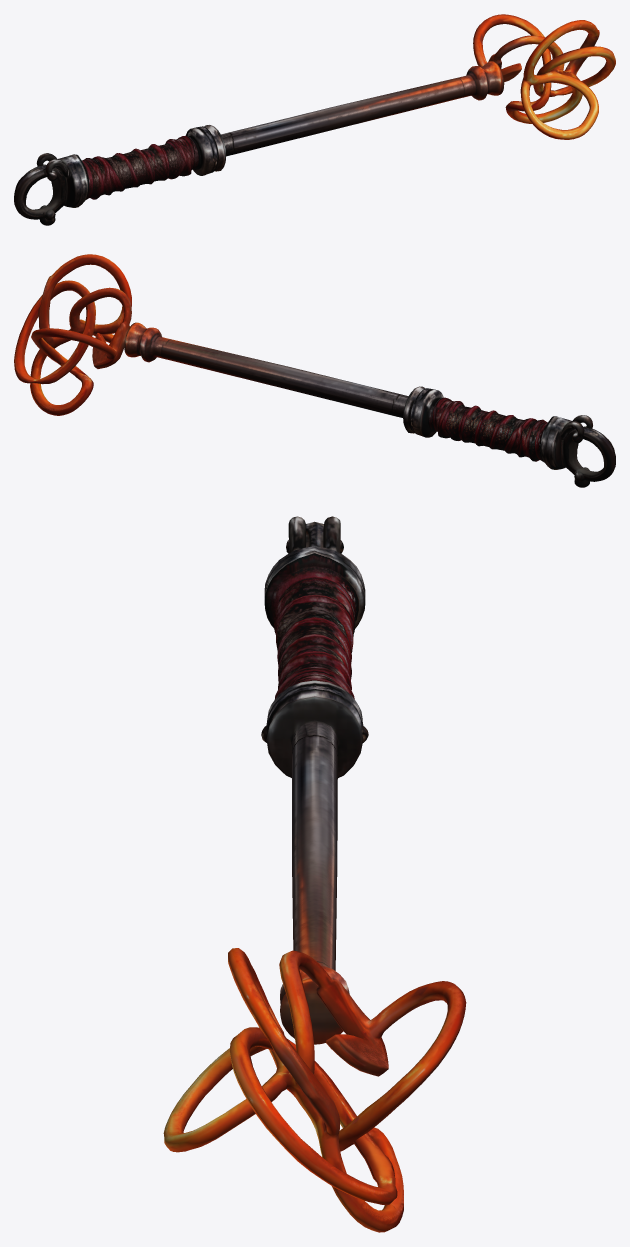
File: FL_branding_iron_vA.glb
3 views of the same model, one above another, from view 1: azimuth 30°, elevation 25°; view 2: azimuth 150°, elevation 25°; view 3: azimuth 270°, elevation 25° (orthographic). The views are drawn at different scales.
Visible parts, largest first — view 1: c60b1110_420c_48ce_8e7e_0bb340e11f68; view 2: c60b1110_420c_48ce_8e7e_0bb340e11f68; view 3: c60b1110_420c_48ce_8e7e_0bb340e11f68.
Boxes of the visible parts, bbox=[...] form: c60b1110_420c_48ce_8e7e_0bb340e11f68: bbox=[14, 14, 615, 225]; c60b1110_420c_48ce_8e7e_0bb340e11f68: bbox=[14, 254, 615, 487]; c60b1110_420c_48ce_8e7e_0bb340e11f68: bbox=[163, 516, 466, 1232].
Bounding box in the file's own units: 0.9995 × 0.2124 × 0.2212.
1 material, 1 textured.
